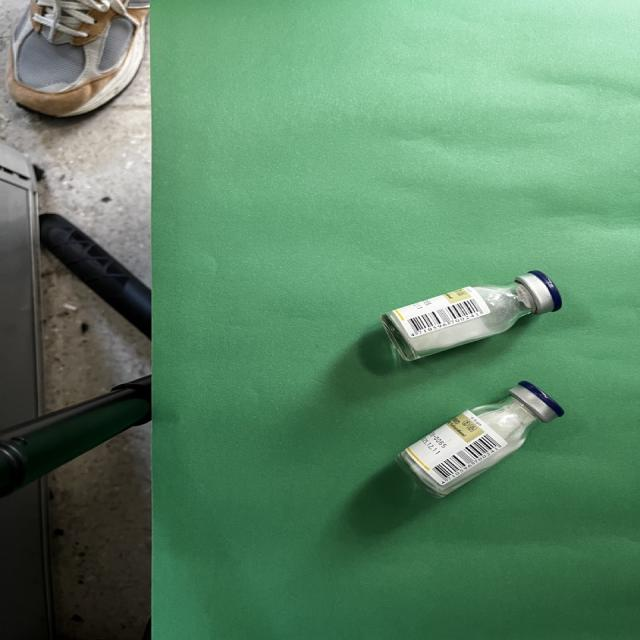Vials: (397, 381, 563, 496), (381, 270, 561, 361)
